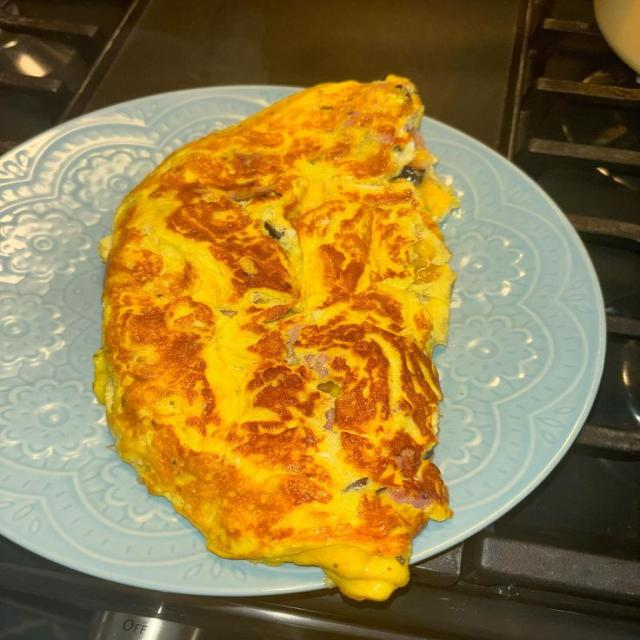omelette: (95, 77, 455, 599)
